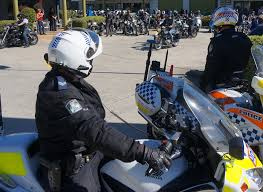helmet: (45, 19, 100, 82)
